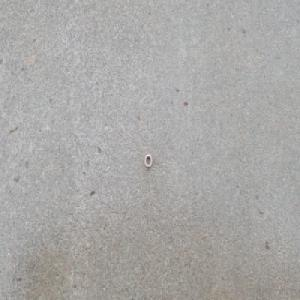Nut: (144, 153, 153, 169)
